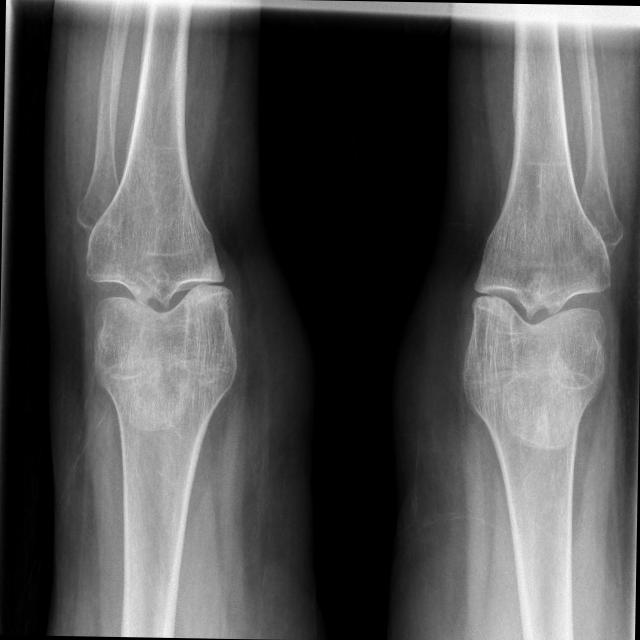Knee: (76, 228, 240, 380), (458, 234, 614, 380)
